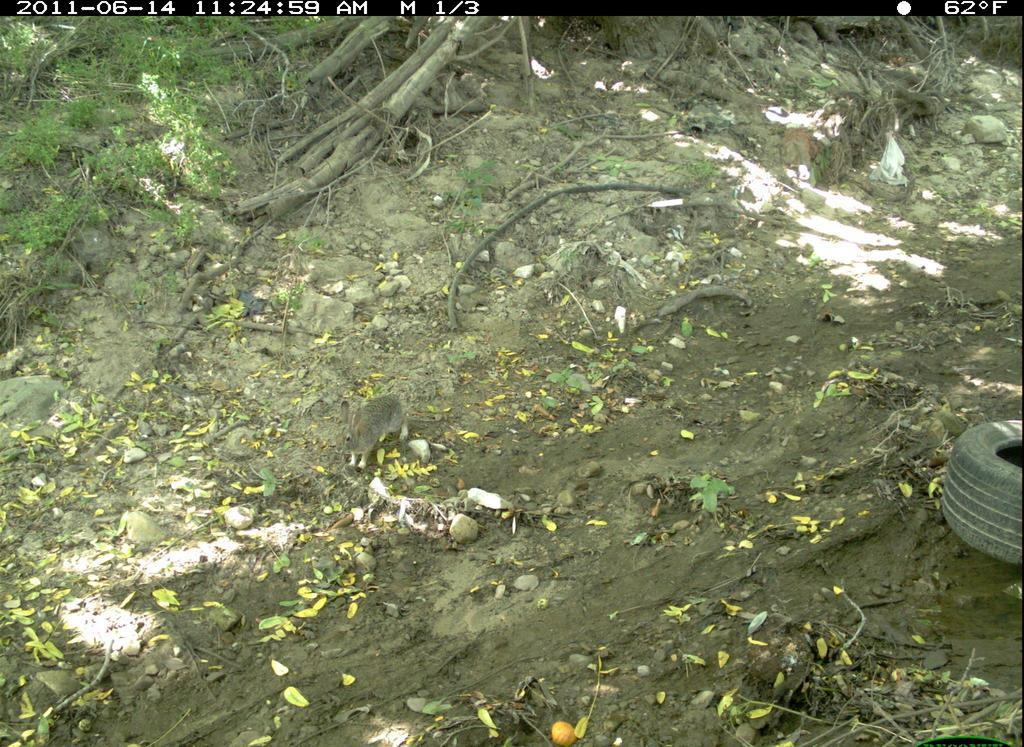rabbit: (331, 383, 422, 488)
